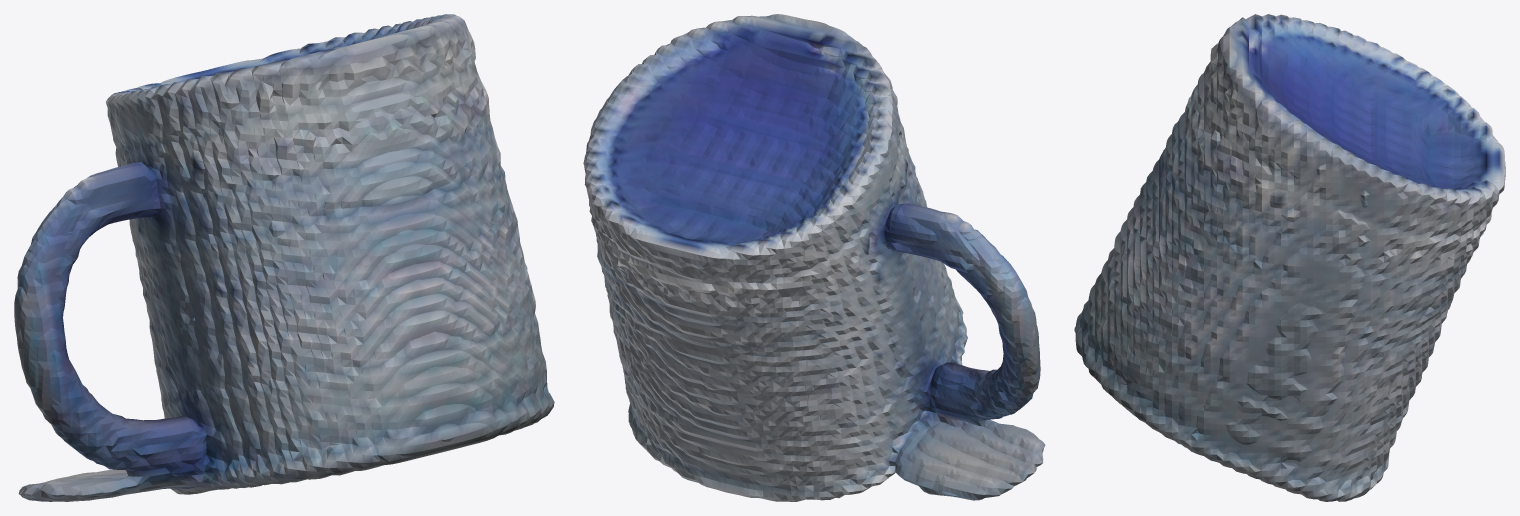
3 views of the same model, side by side, from view 1: azimuth 30°, elevation 25°; view 2: azimuth 150°, elevation 25°; view 3: azimuth 270°, elevation 25° (orthographic). The views are drawn at different scales.
Visible parts, largest first — view 1: world; view 2: world; view 3: world.
Part boxes in pixels (x1,y1,x2,y2): world: (14, 14, 554, 501); world: (583, 14, 1045, 501); world: (1074, 14, 1505, 501).
Bounding box in the file's own units: 1 × 0.9678 × 0.9043.
